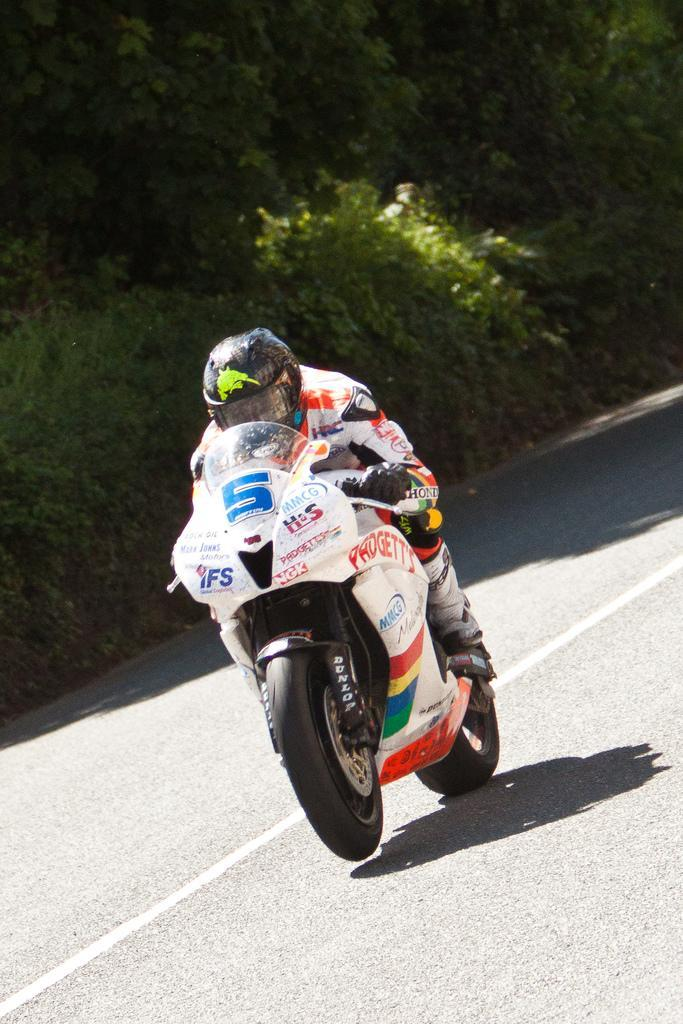helmet: (201, 325, 310, 459)
